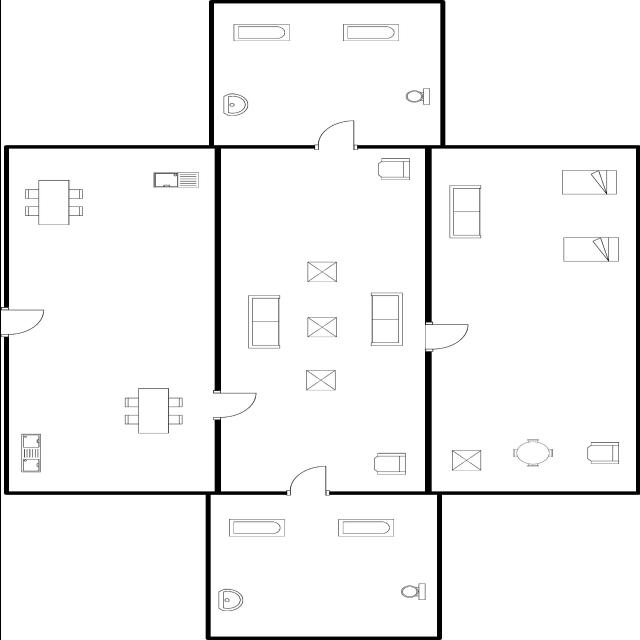armchair: (580, 438, 622, 466), (372, 155, 414, 183), (368, 449, 410, 477)
bed: (558, 233, 622, 266), (558, 167, 620, 197)
coffee_table: (300, 314, 340, 340), (302, 366, 339, 394), (302, 258, 340, 284), (446, 448, 484, 472)
dining_table: (19, 174, 88, 228), (118, 385, 188, 437)
large_sink: (404, 84, 436, 107), (397, 579, 429, 602)
large_sofa: (364, 288, 408, 349), (243, 290, 285, 350), (444, 182, 484, 241)
round_table: (510, 436, 558, 471)
sink: (148, 168, 202, 190)
small_sink: (212, 584, 248, 614), (220, 91, 253, 117)
tub: (338, 20, 404, 44), (228, 20, 294, 44), (332, 516, 398, 540), (224, 515, 288, 539)
twin_sink: (16, 430, 44, 476)
